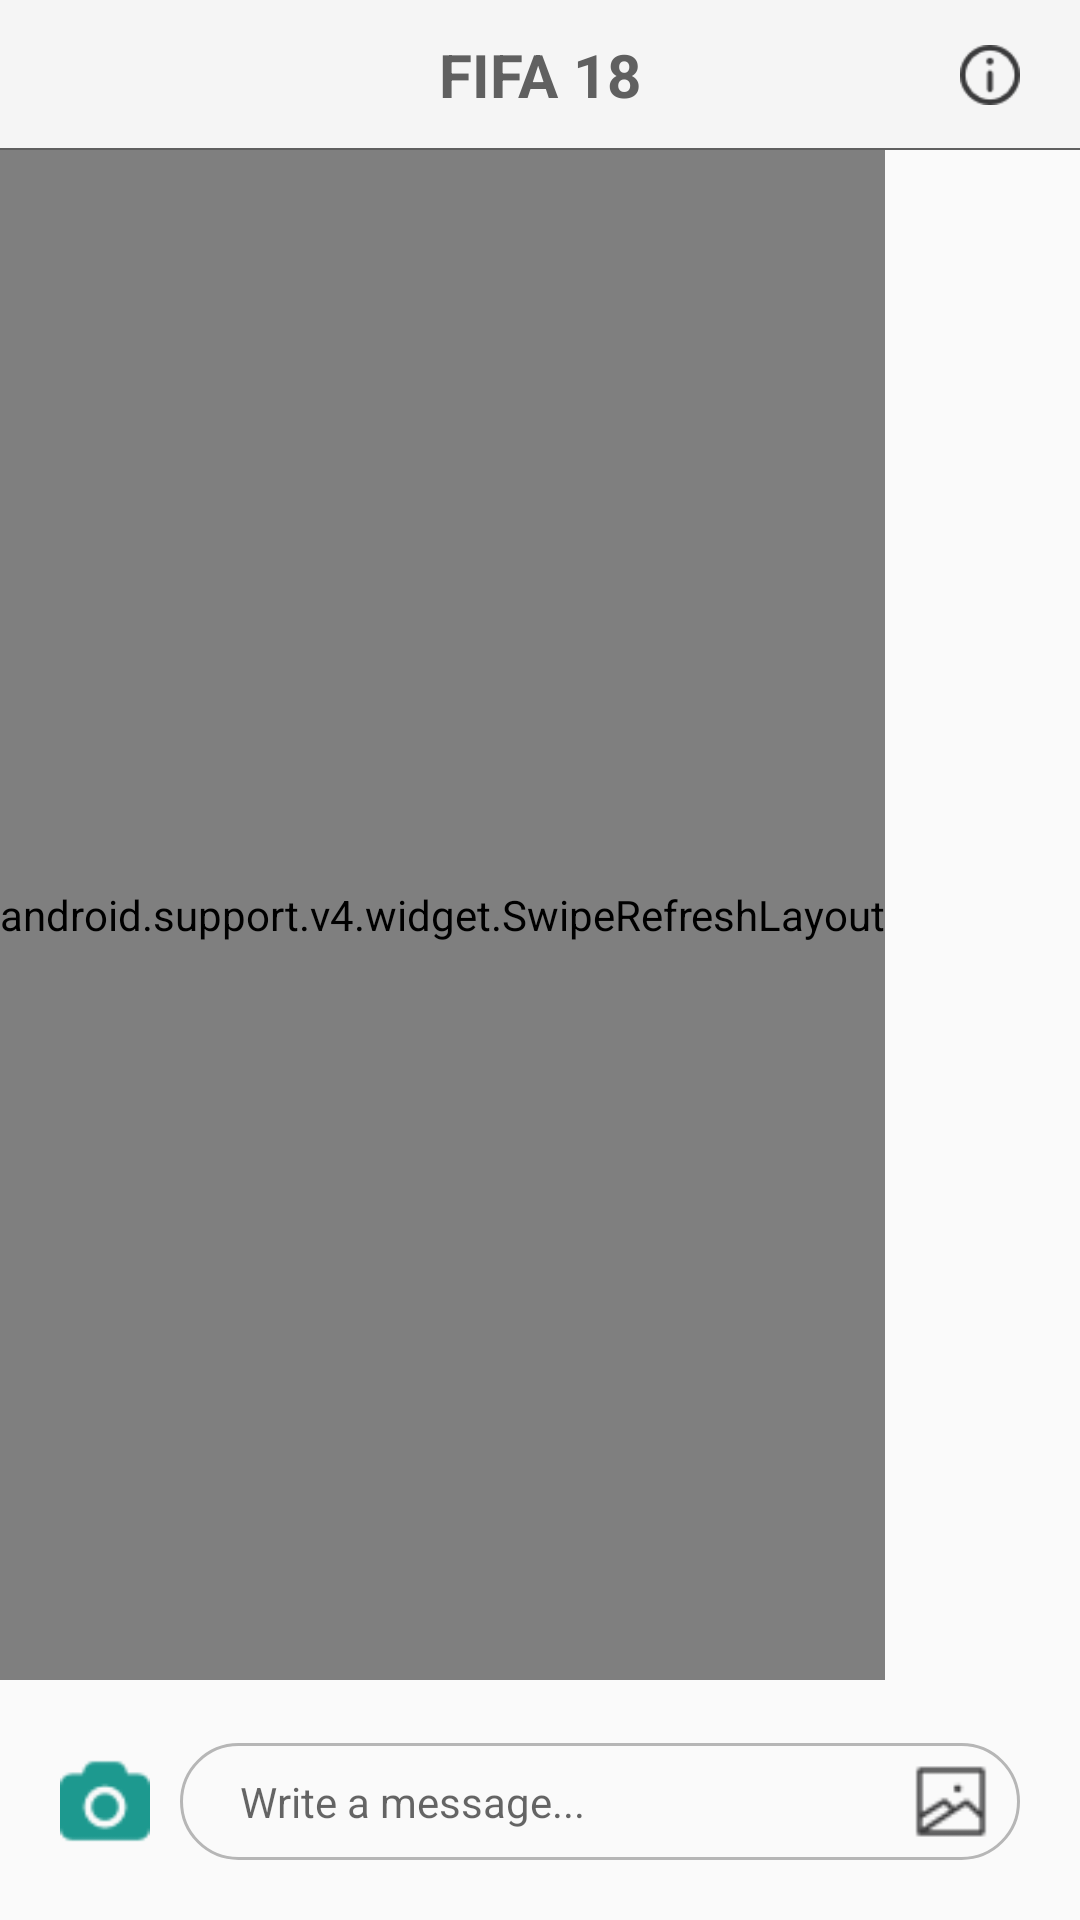

Icon click points for this 1080×1920 phone screenshot, format point (x, y):
camera: point (105, 1801)
gallery: point (951, 1801)
information: point (990, 75)
